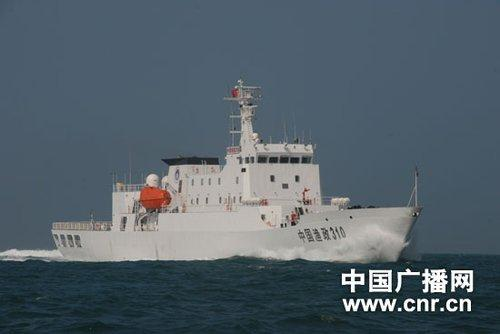warship: (48, 74, 420, 264)
